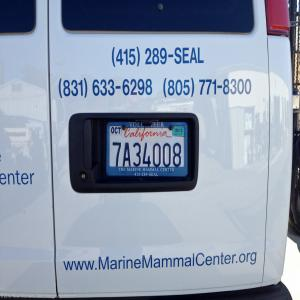Vehicle-registration-plate: (100, 123, 184, 186)
